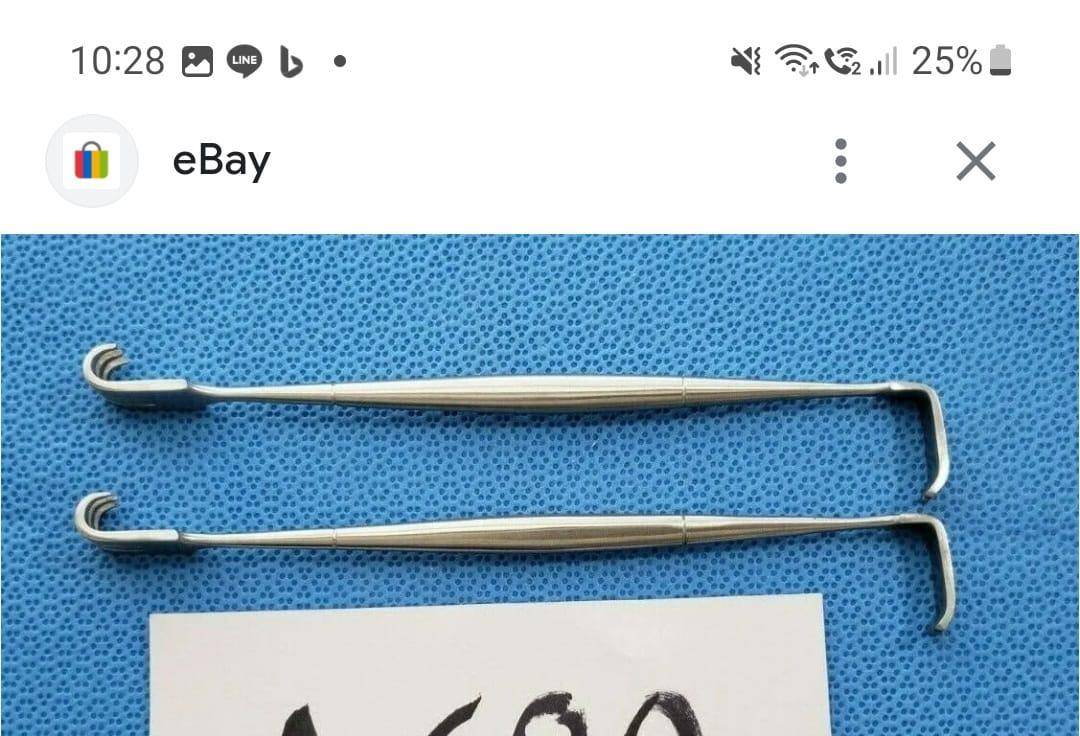Senn Retractor: (78, 331, 952, 501), (62, 487, 966, 634)
